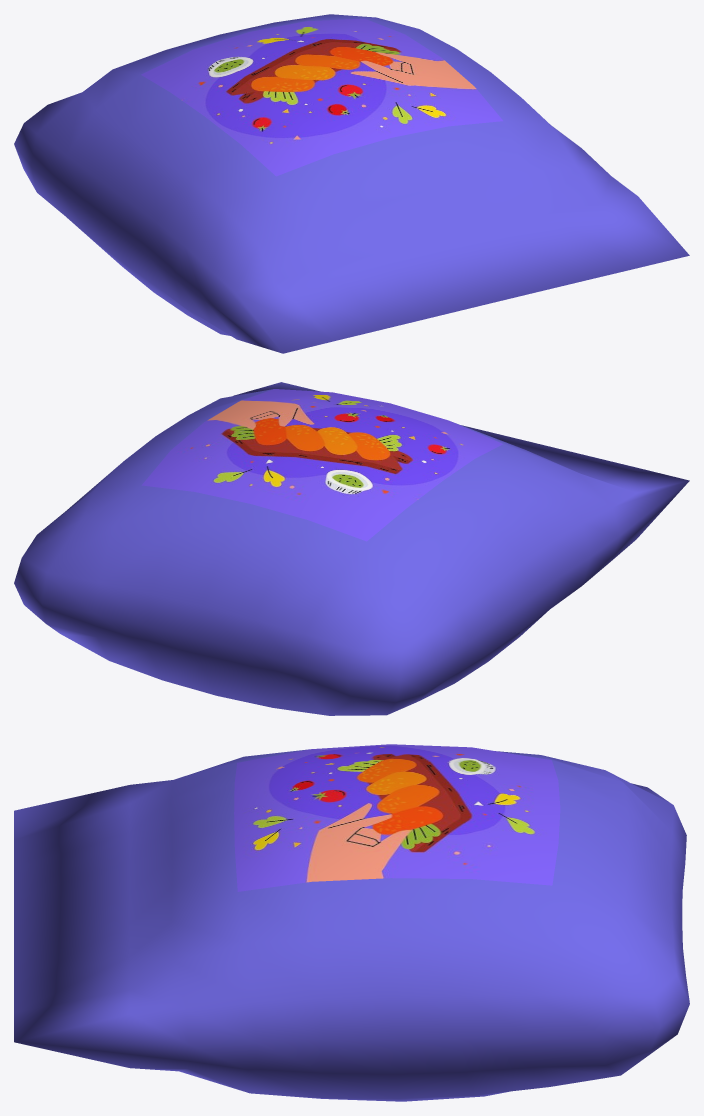
The model's file is palitos de merluza.fbx.
3 renders of one model, top to bottom at view 1: azimuth 30°, elevation 25°; view 2: azimuth 150°, elevation 25°; view 3: azimuth 270°, elevation 25°, orthographic. The views are drawn at different scales.
Visible parts, largest first — view 1: PAQUETE DE palitos de merluza; view 2: PAQUETE DE palitos de merluza; view 3: PAQUETE DE palitos de merluza.
Part boxes in pixels (box(x1,y1,x2,y2)): PAQUETE DE palitos de merluza: box(14, 14, 689, 353); PAQUETE DE palitos de merluza: box(14, 382, 689, 715); PAQUETE DE palitos de merluza: box(14, 744, 689, 1101).
Bounding box in the file's own units: 23.27 × 12.25 × 28.16.
2 materials, 1 textured.
